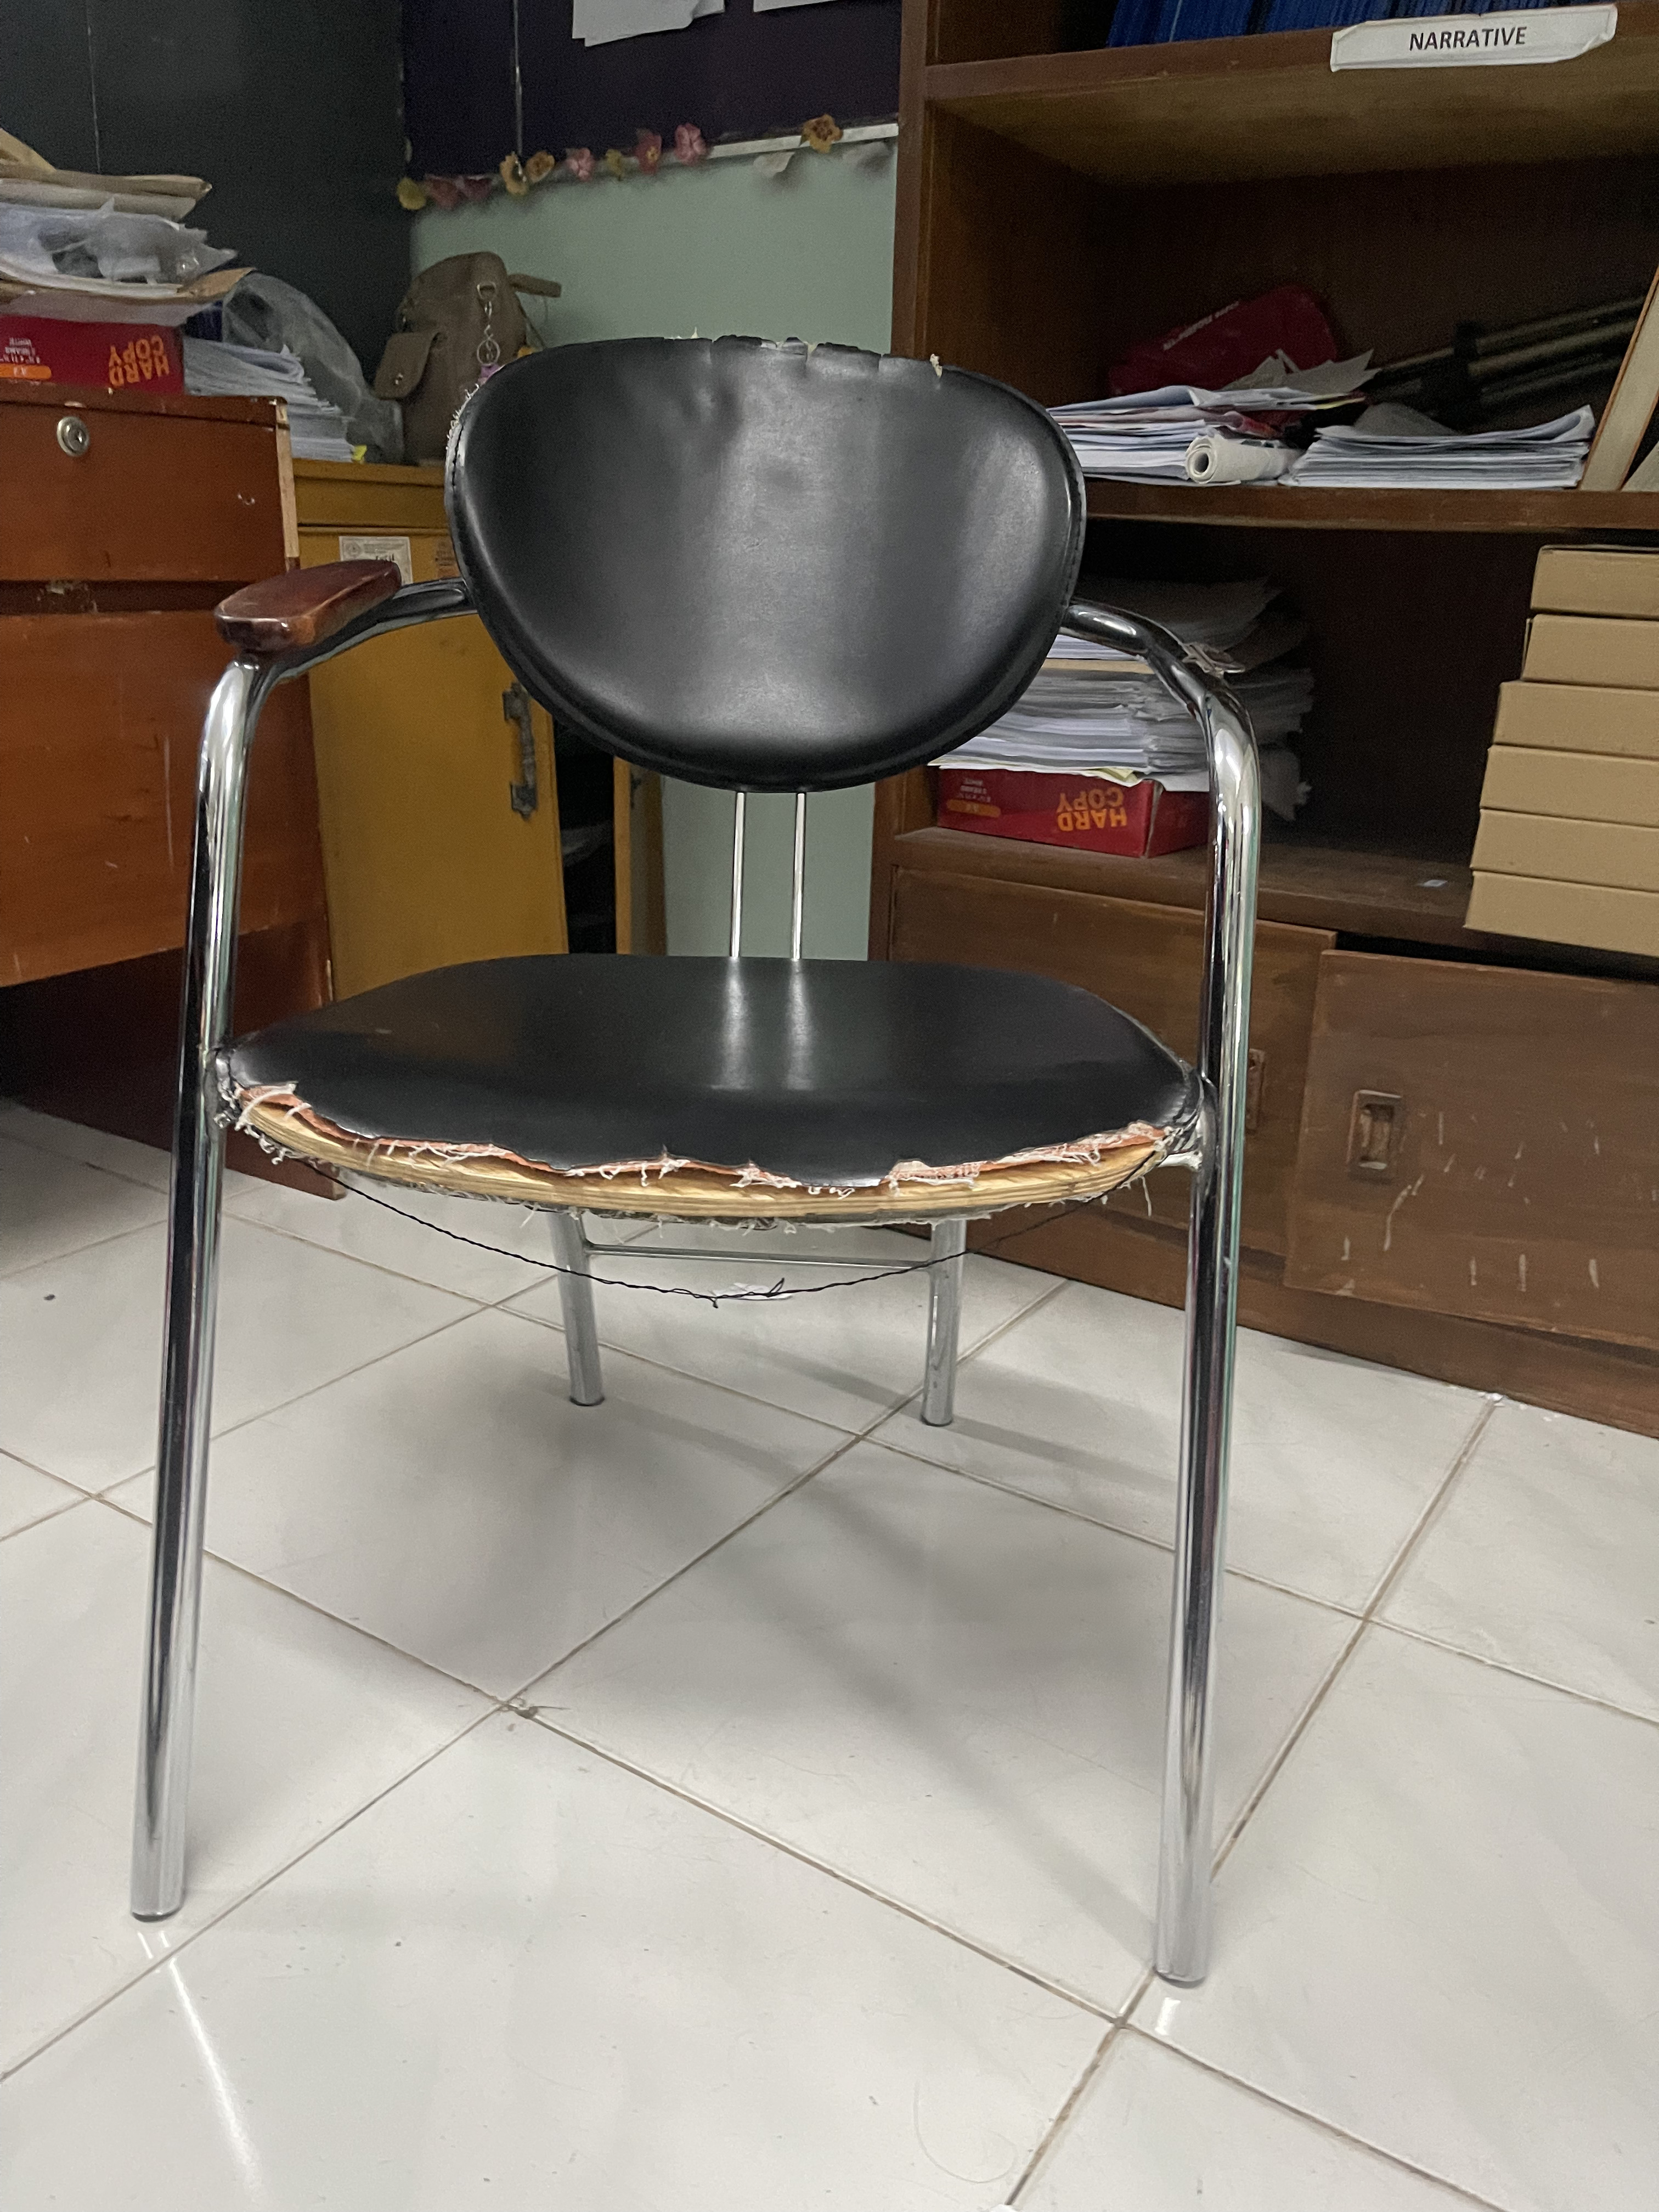chair1: (115, 324, 1270, 2017)
